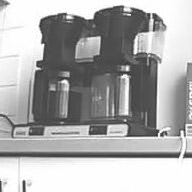empty coffee: (88, 63, 141, 124)
not empty coffee: (29, 67, 84, 124)
